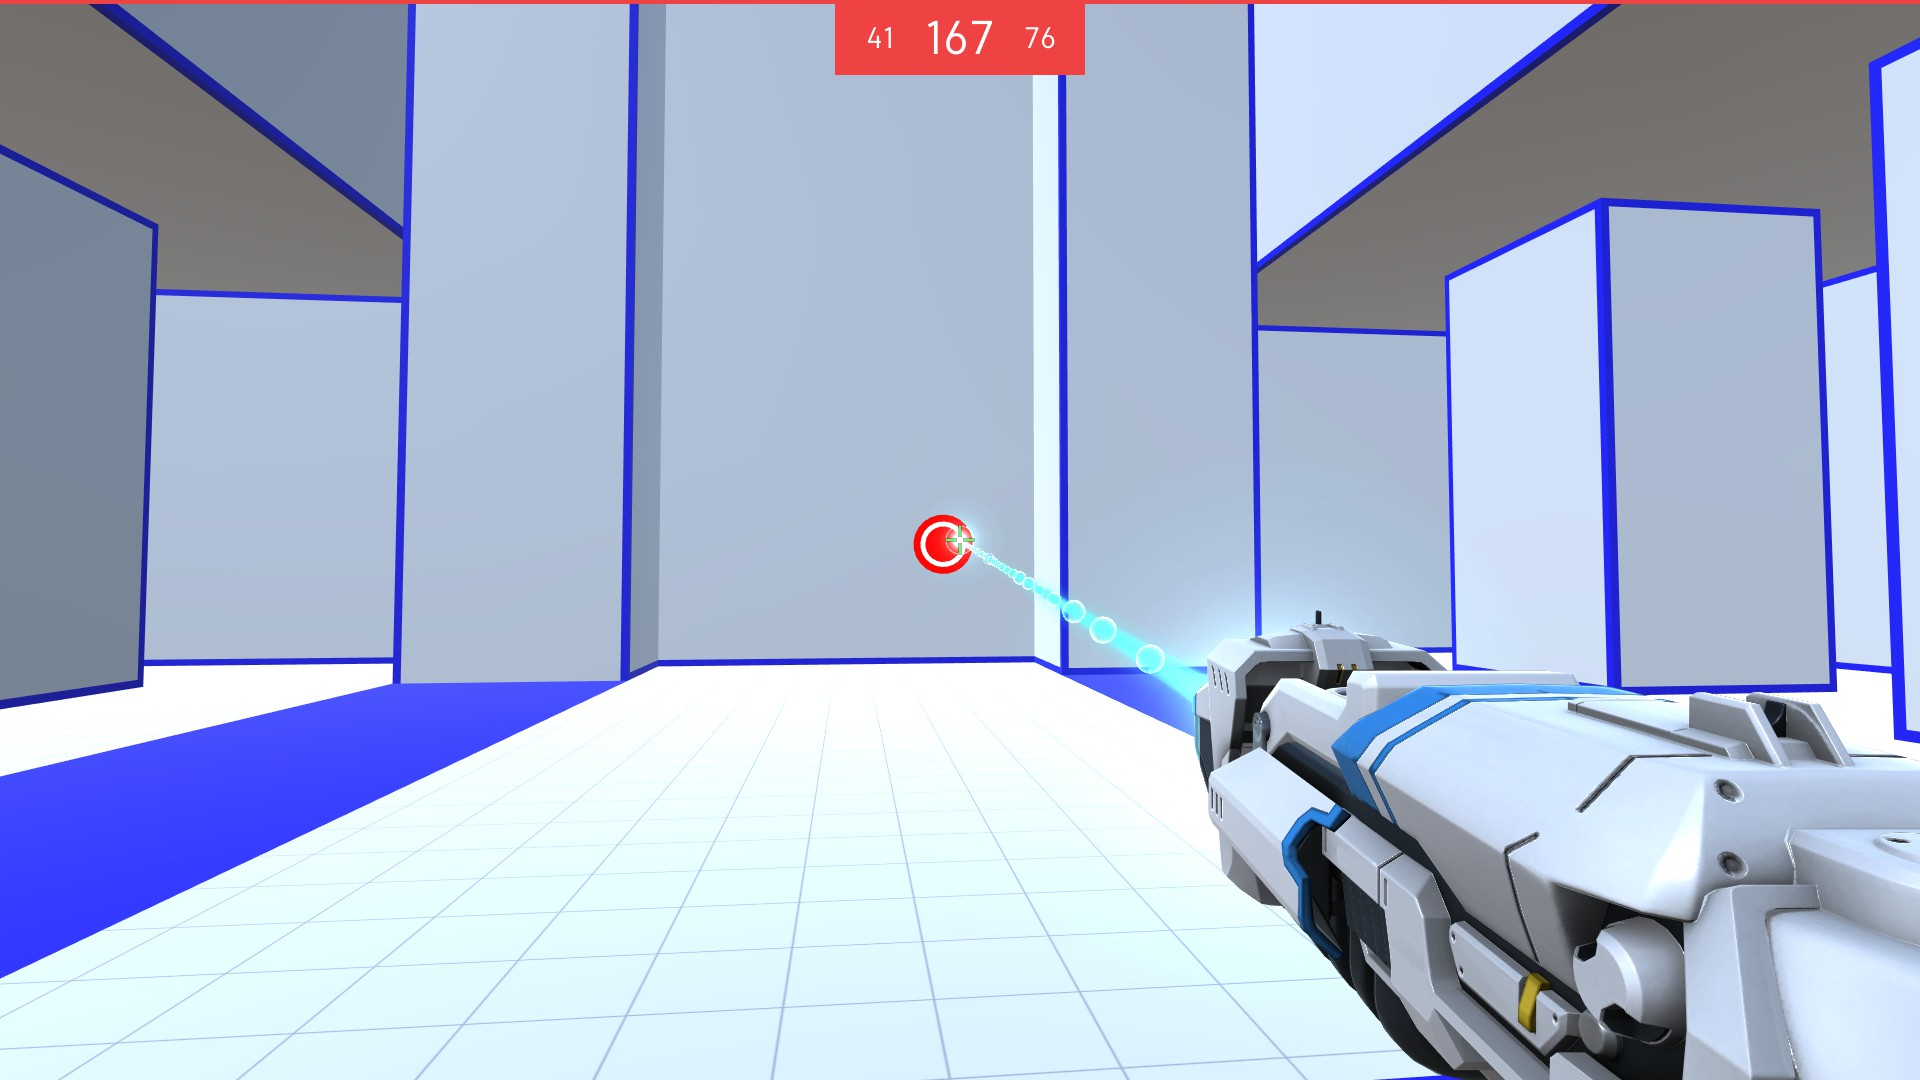target: (914, 513, 976, 574)
